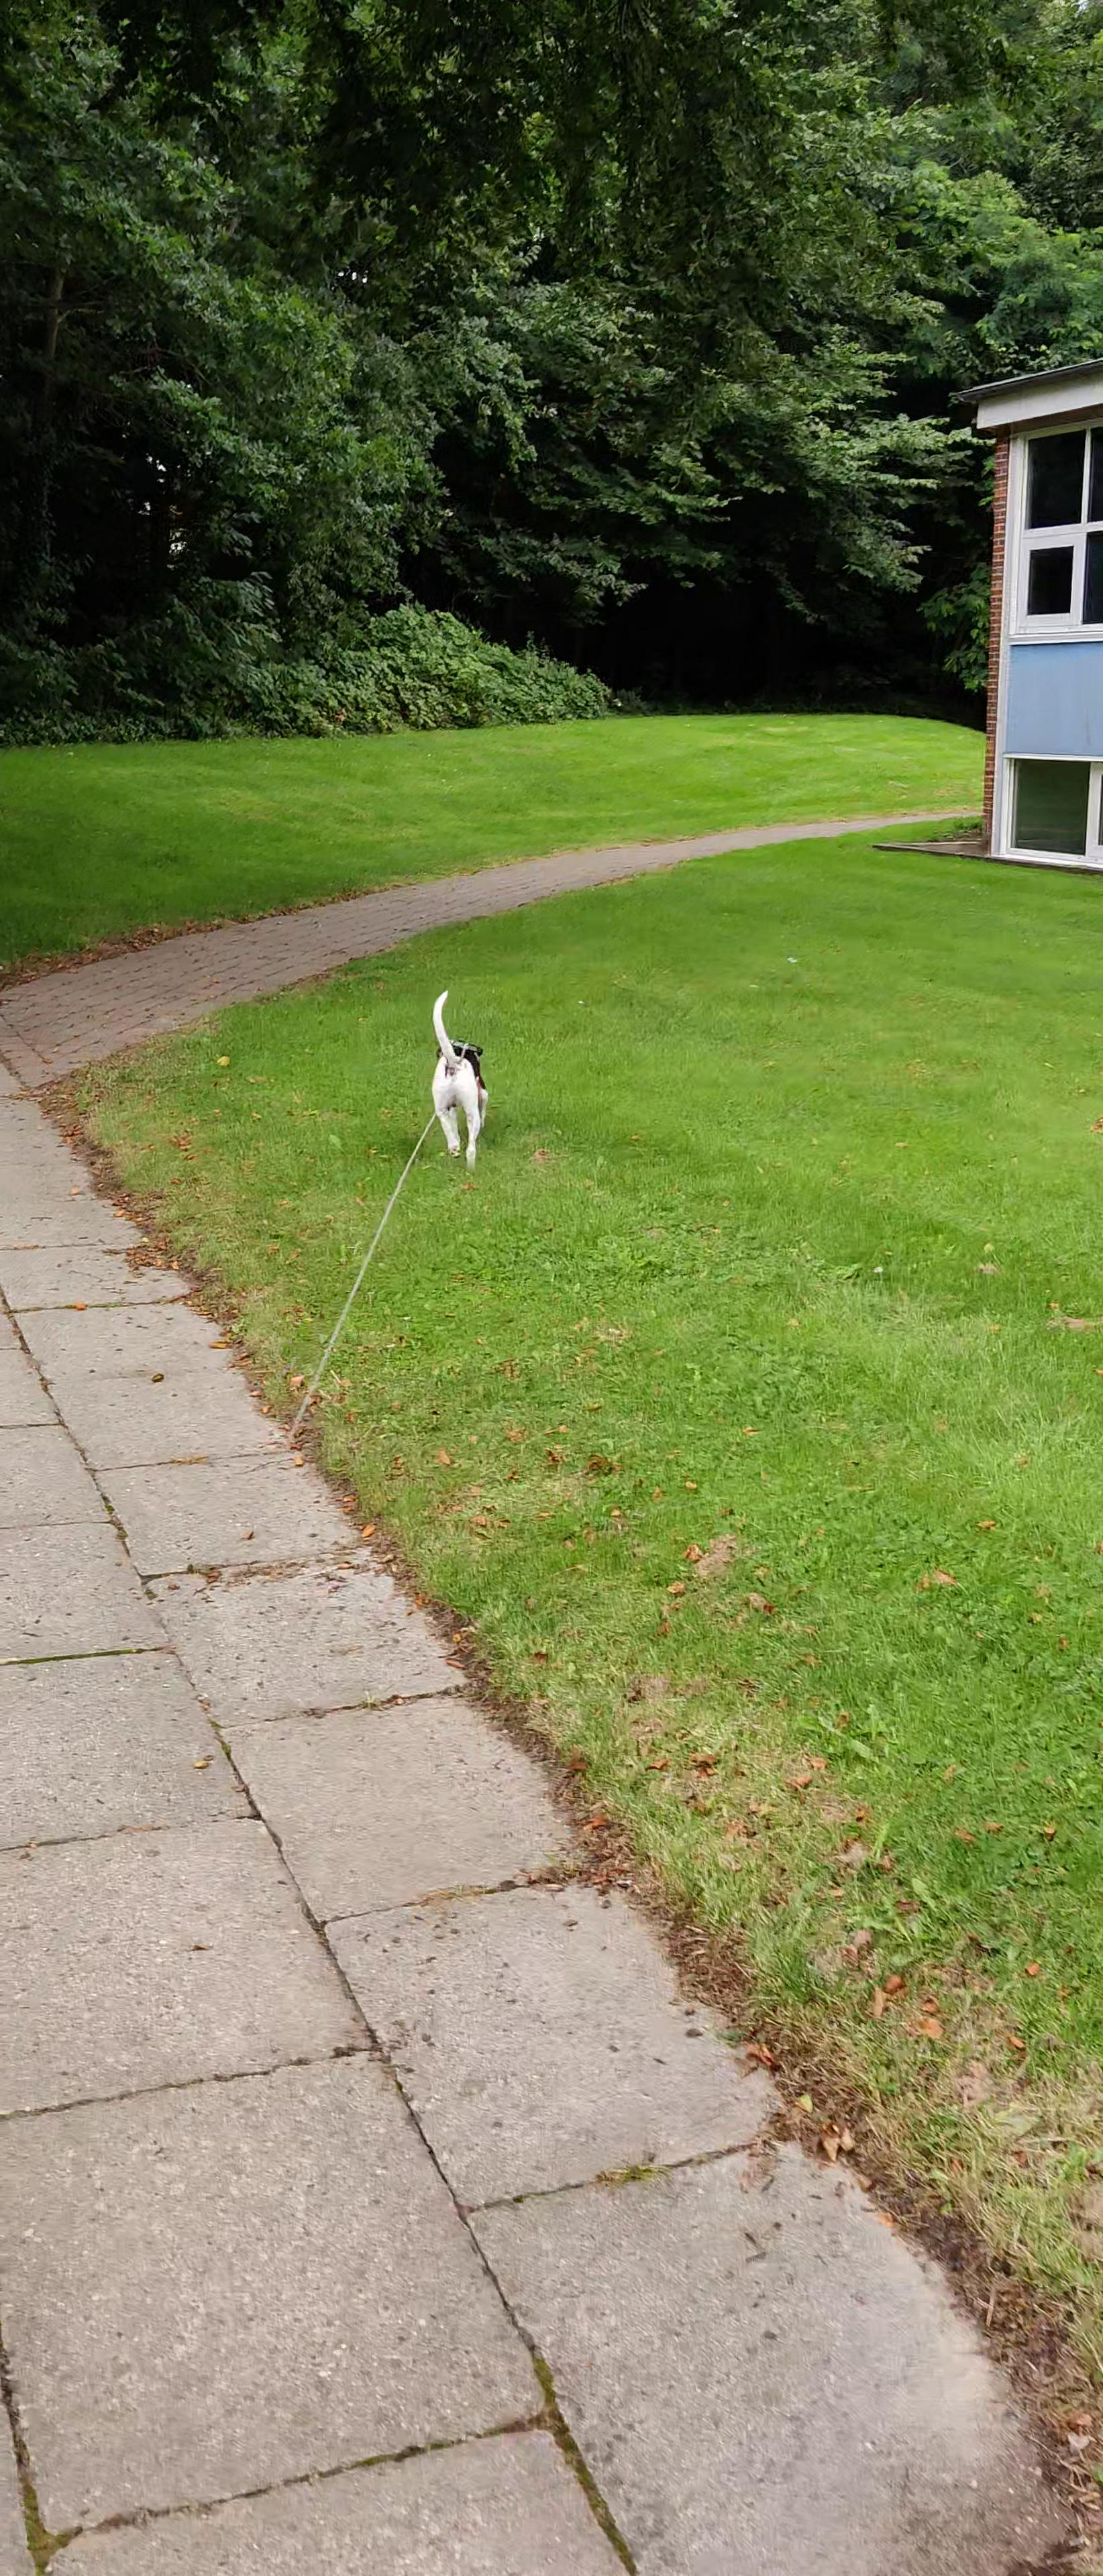Dog: (419, 987, 495, 1186)
